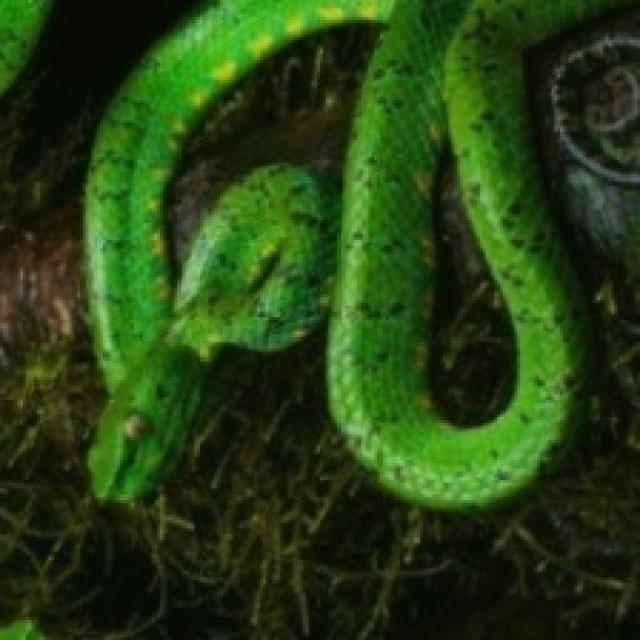philippine pitviper: (86, 0, 629, 506)
